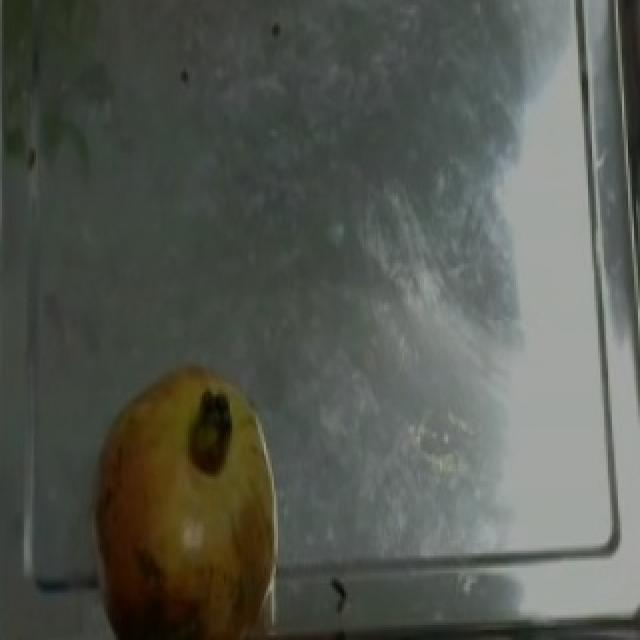fruit: (66, 338, 302, 632)
